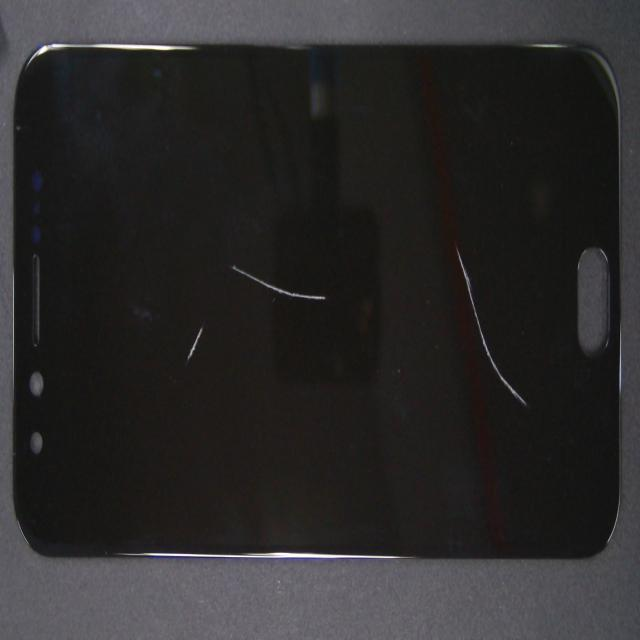scratch: (451, 247, 528, 416), (220, 234, 333, 323), (179, 315, 211, 371)
